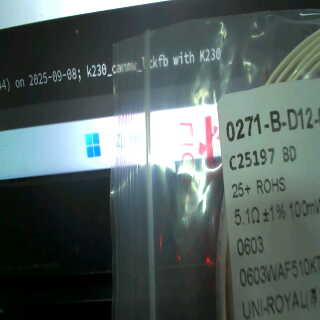5.1R: (231, 206, 261, 228)
